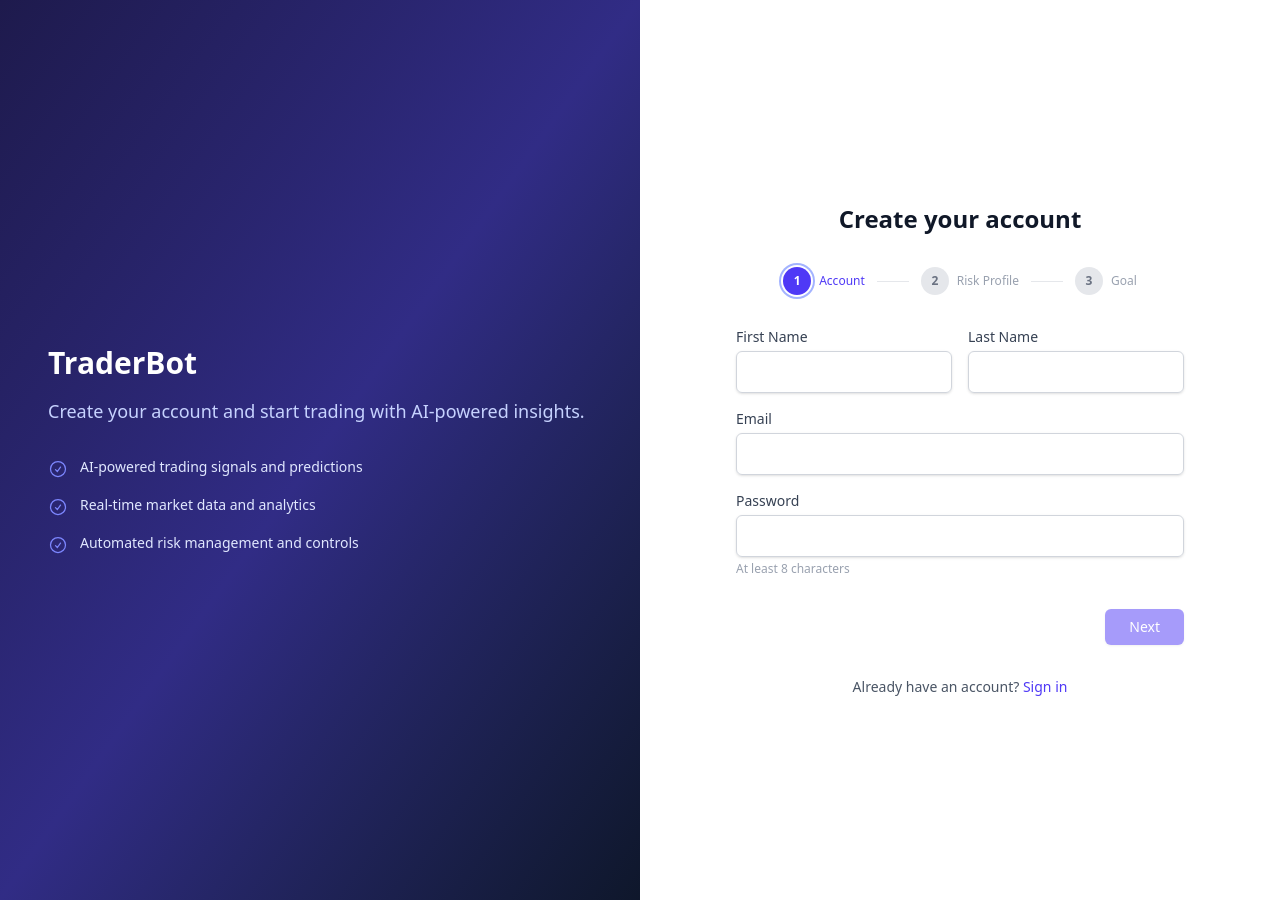
RegisterPage › advances to step 3 with investment goal cards
The image size is (1280, 900).
Type "Test" into the field labelled "First Name".
click(844, 372); type("Test")  # box [736,351,952,393]
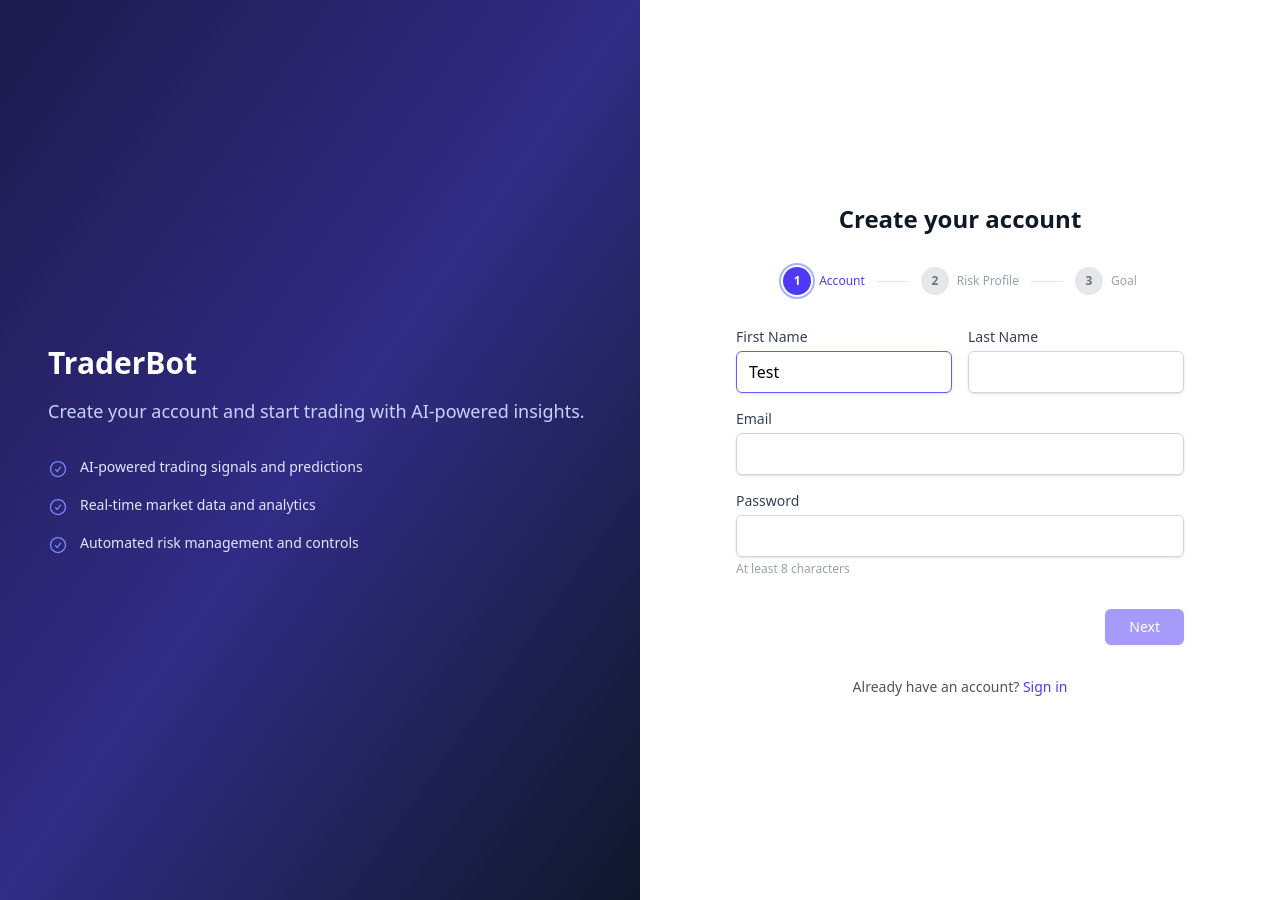
Type "User" into the field labelled "Last Name".
click(1076, 372); type("User")  # box [968,351,1184,393]
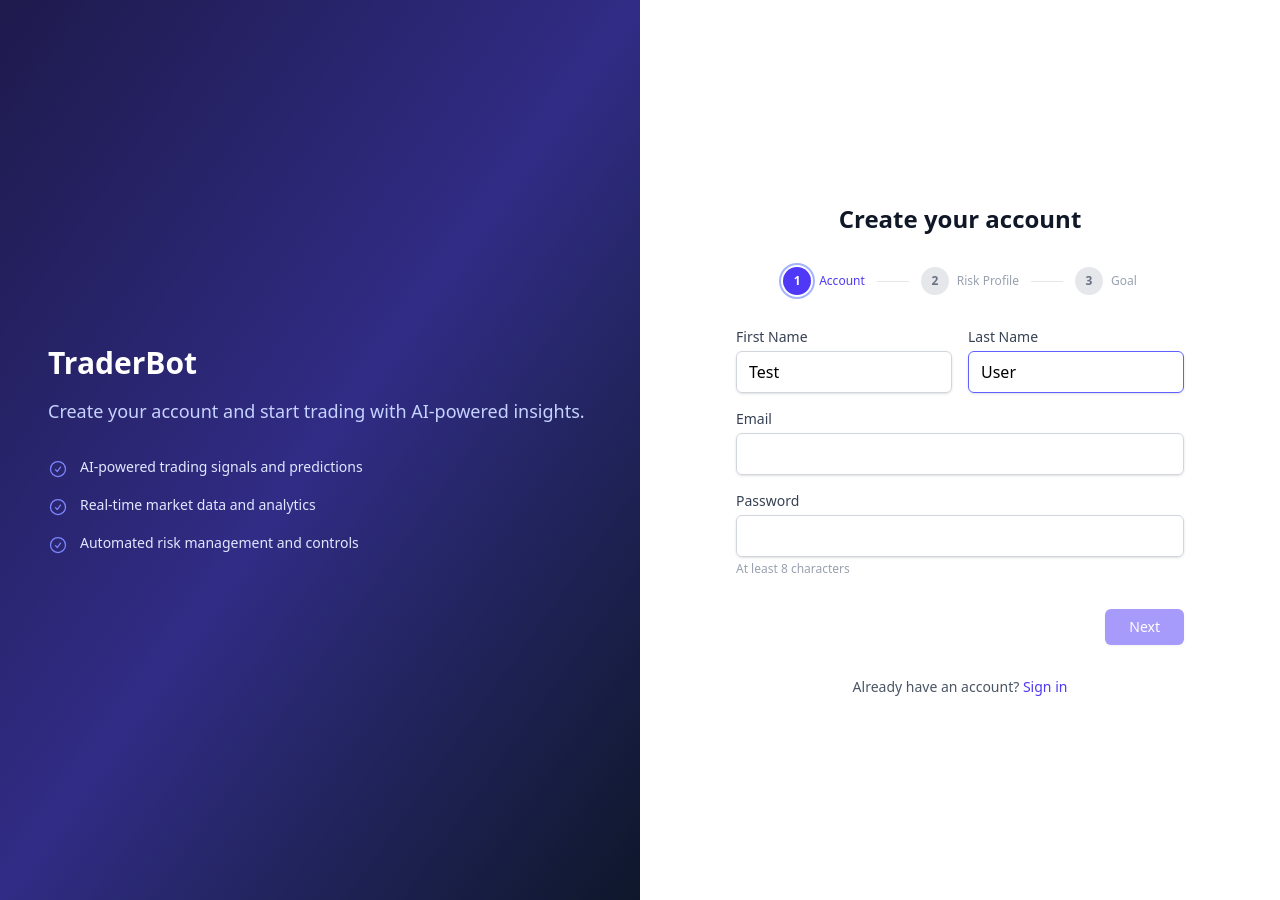
Type "test@example.com" into the field labelled "Email".
click(960, 454); type("test@example.com")  # box [736,433,1184,475]
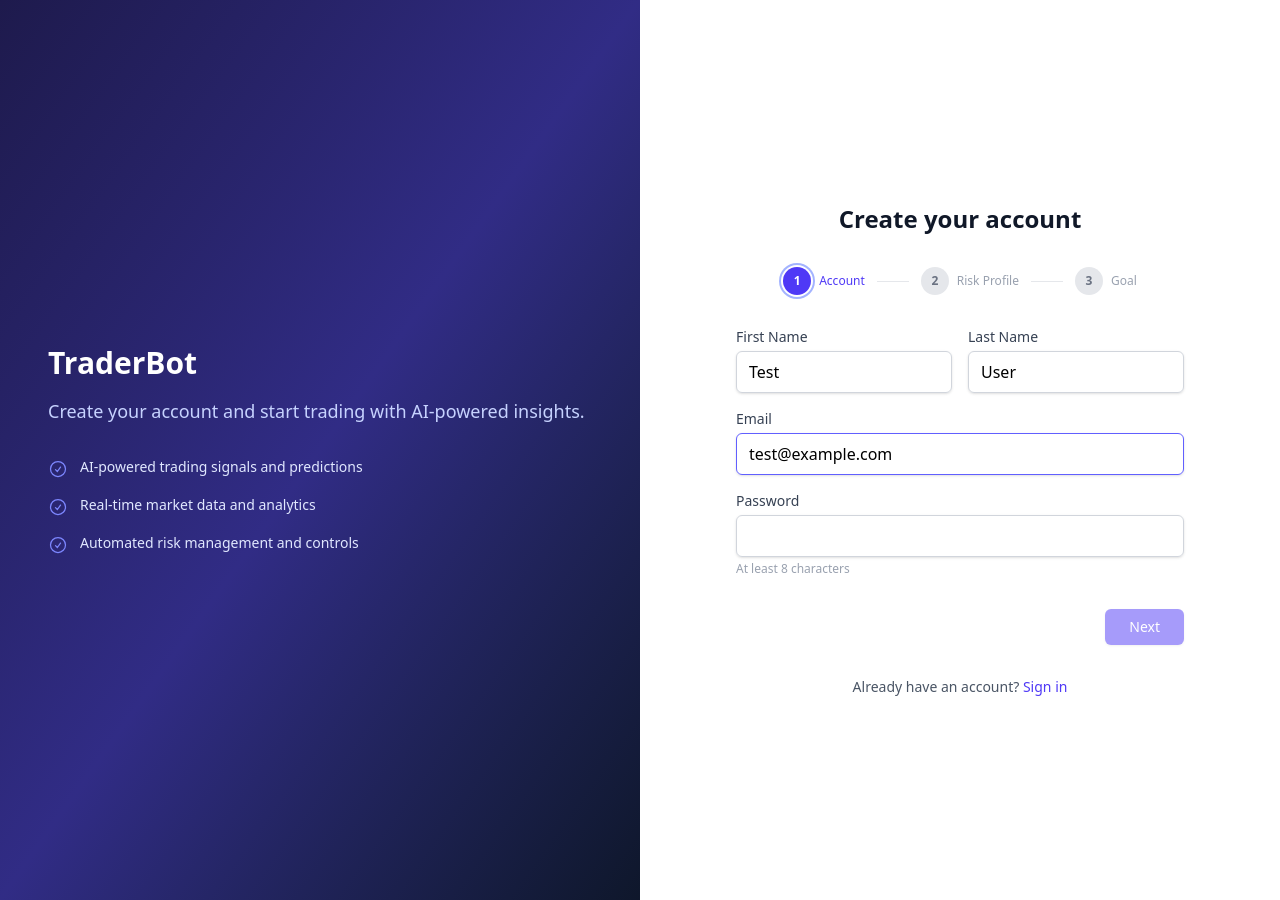
Type "password123" into the password field labelled "Password".
click(960, 536); type("password123")  # box [736,515,1184,557]
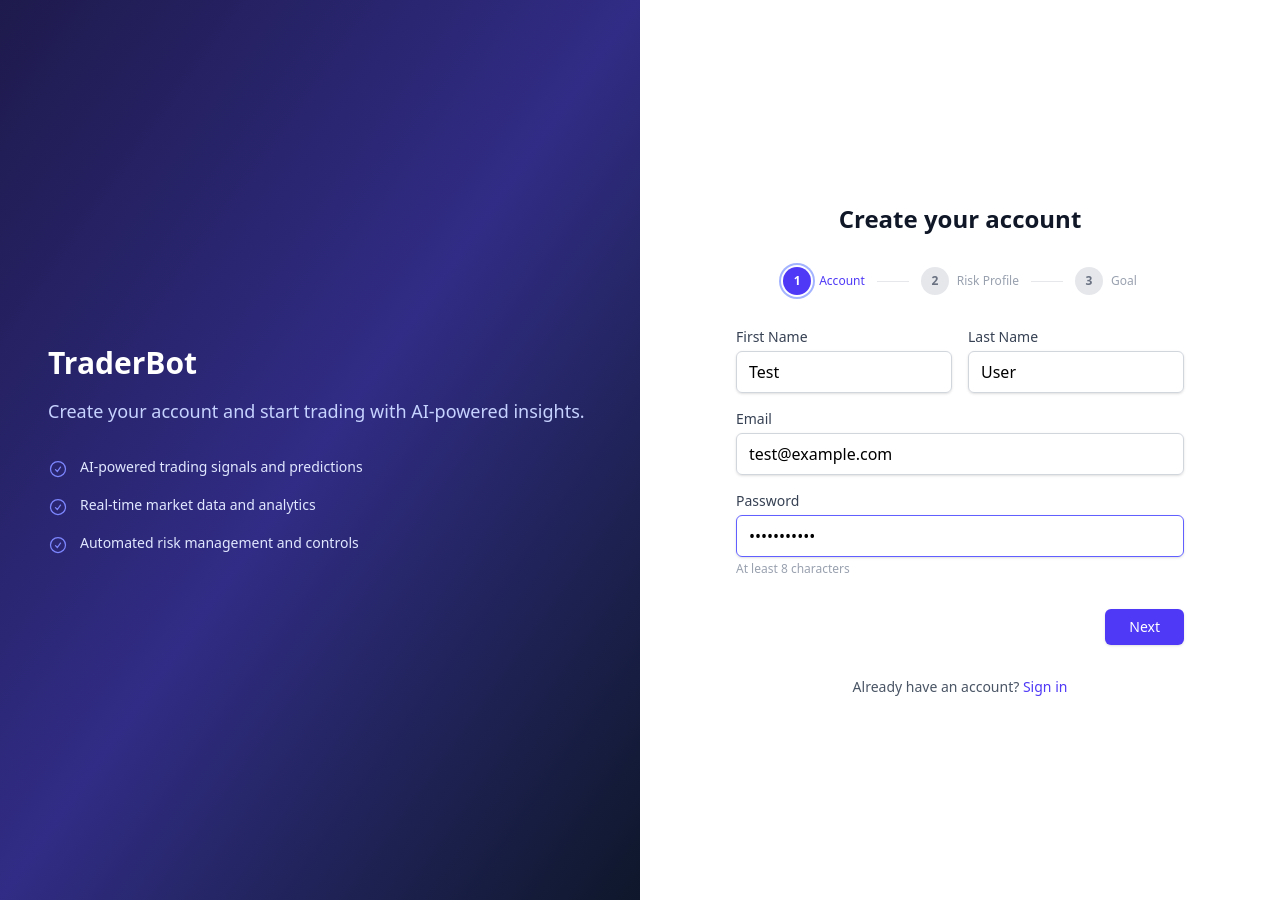
Click the button "Next".
click(1145, 627)  # box [1105,609,1184,645]
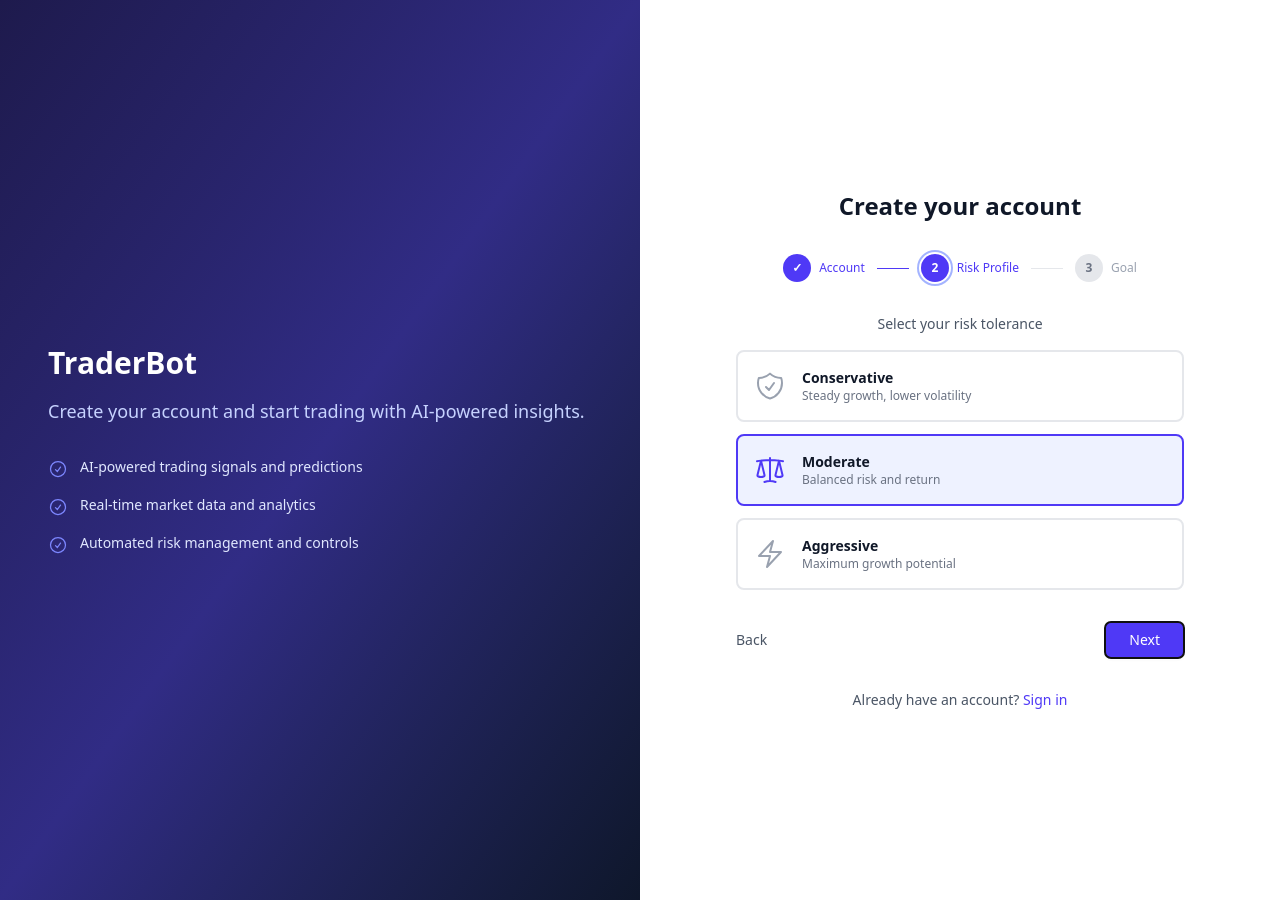
Click the button "Next".
click(1145, 640)  # box [1105,622,1184,658]
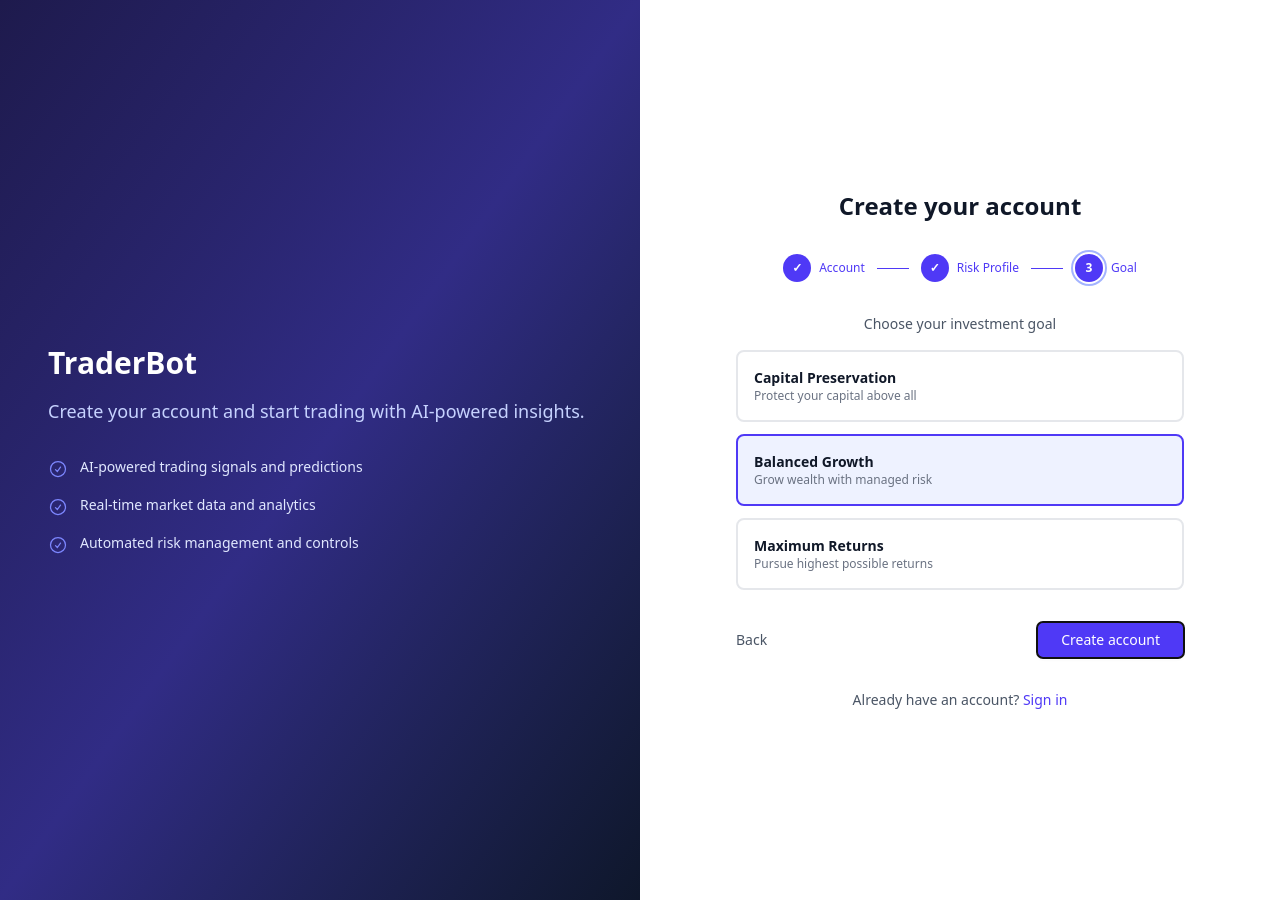
Result: the text "Choose your investment goal" is shown at [864,314,1056,333]
Result: the text "Capital Preservation" is shown at [754,368,896,387]
Result: the text "Balanced Growth" is shown at [754,452,874,471]
